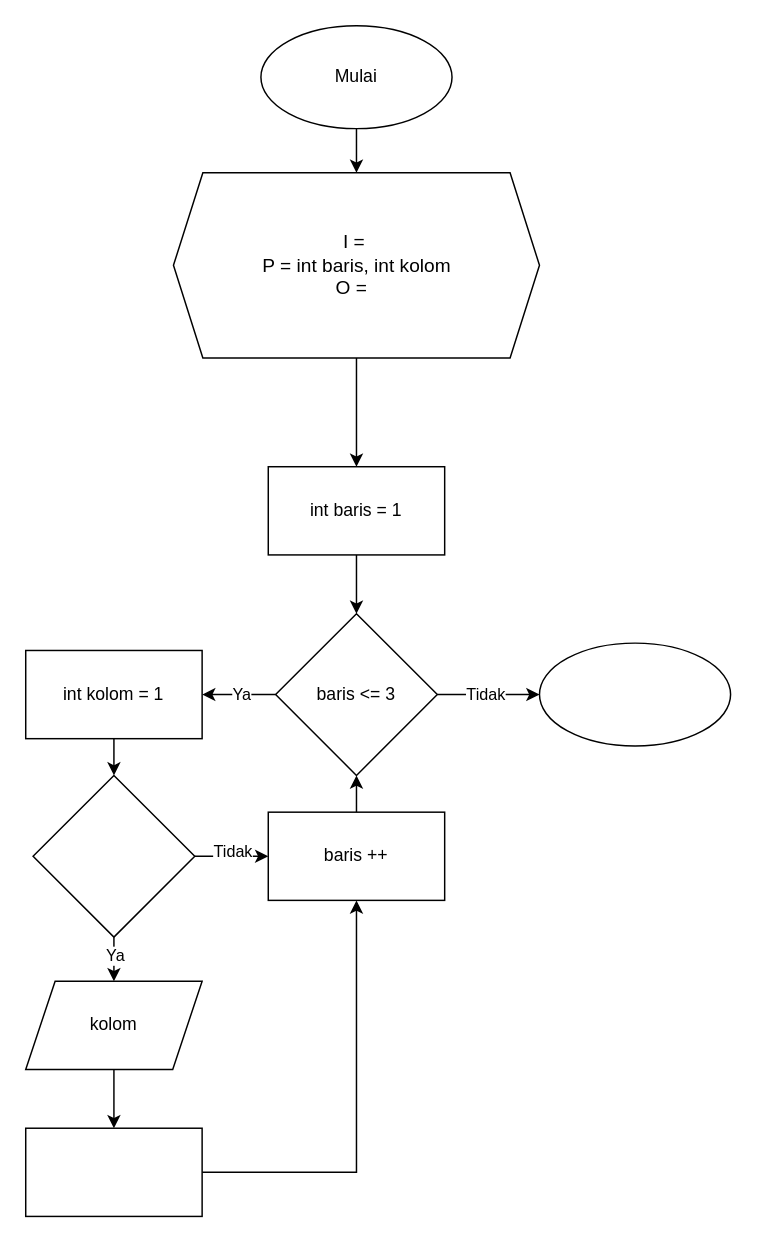
Some shapes in this 757 by 1242 pixel diagram are drawn without their labels. The centre of each missing label's shape, as x and y in pixels:
"kolom ++" belongs at point 113,1171.
"kolom <= 4" belongs at point 113,855.
"Selesai" belongs at point 634,694.
